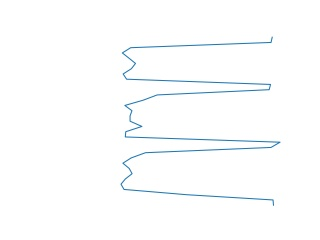majorRiverChannelBar: (118, 38, 283, 205)
